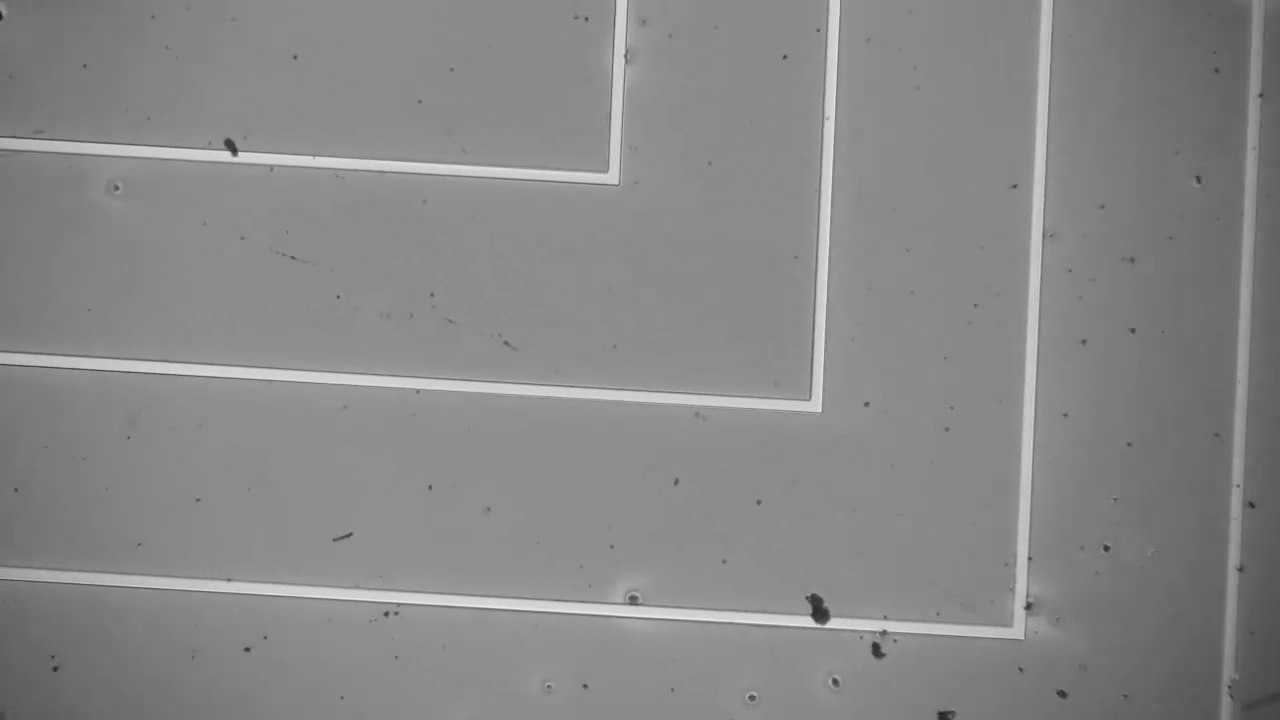edge_bite: (1206, 670, 1251, 714)
stains_enbedded: (799, 585, 839, 636), (219, 133, 250, 172), (1005, 588, 1038, 619)
